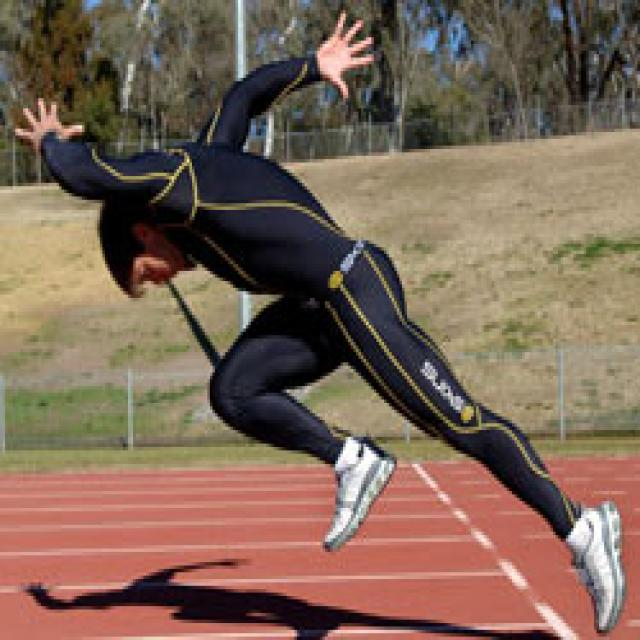running: (13, 7, 630, 640)
